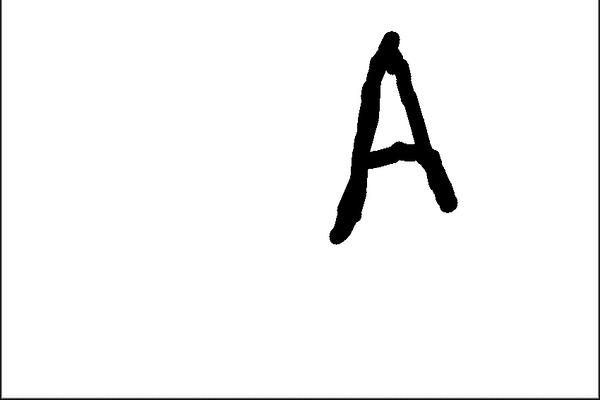A: (298, 25, 476, 245)
